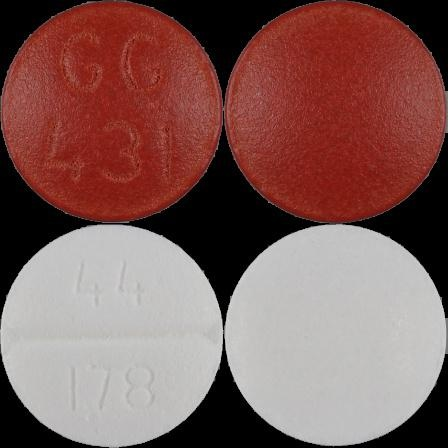0904-0202: (0, 0, 224, 224)
